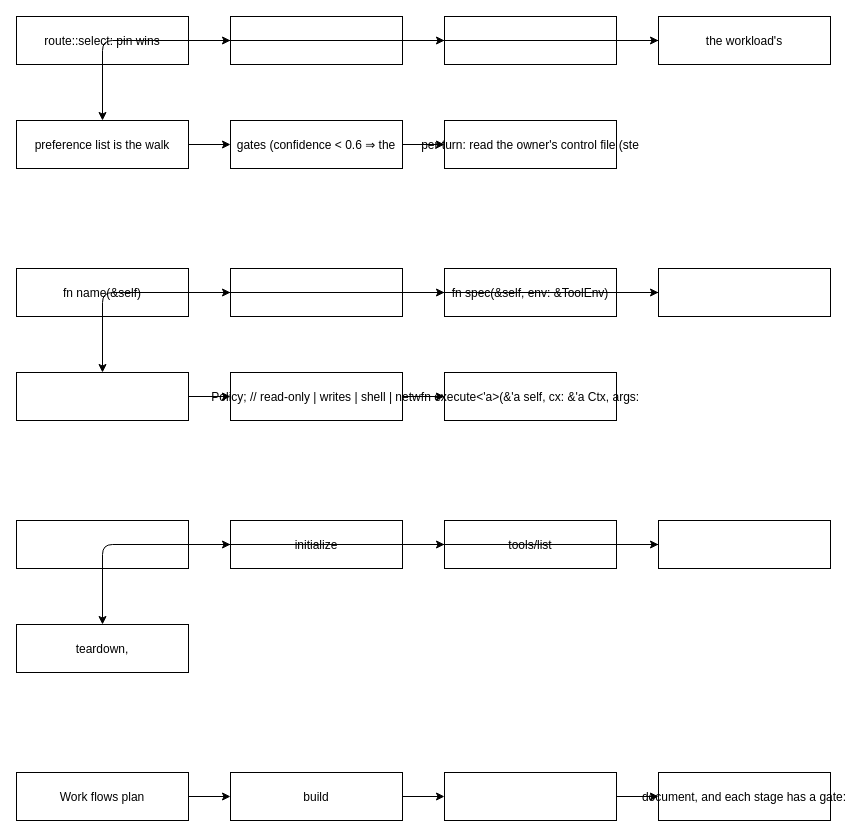
Some shapes in this 863 by 837 pixel diagram are drawn without their labels. The box of each missing label's shape, as (x1, y1, x2, y2) in pixels:
&'static str: (230, 268, 402, 316)
(2024-11-05), spawn: (16, 520, 188, 568)
(cached per task, keyed to the judging lane): (444, 16, 616, 64)
else sys1_classify judges the workload: (230, 16, 402, 64)
fn policy(&self): (16, 372, 188, 420)
recap: (444, 772, 616, 820)
tools/call: (658, 520, 830, 568)
ToolSpec; // declared when present: (658, 268, 830, 316)
